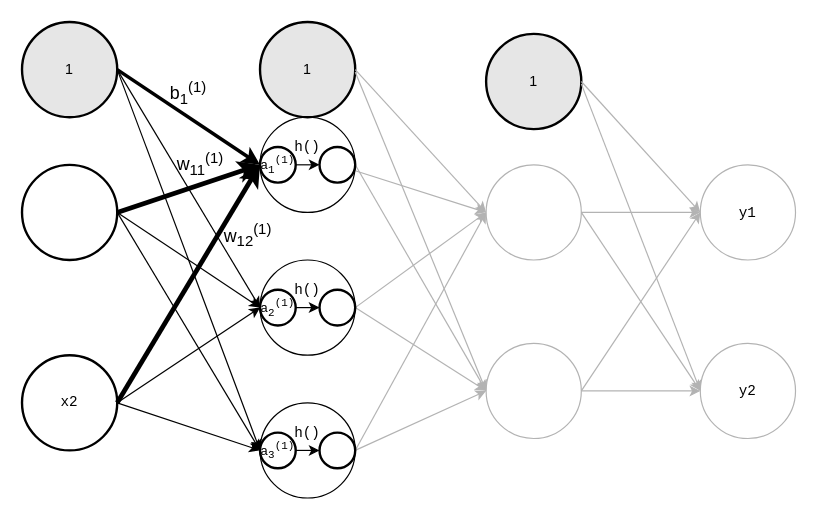
The diagram is 816 pixels wide and 519 high, and some of its shapes have lost their labels. Each missing label, with the centre of its shape:
x1: point 69,212
z 1 (1): point 337,164
z 2 (1): point 337,307
z 3 (1): point 337,450
